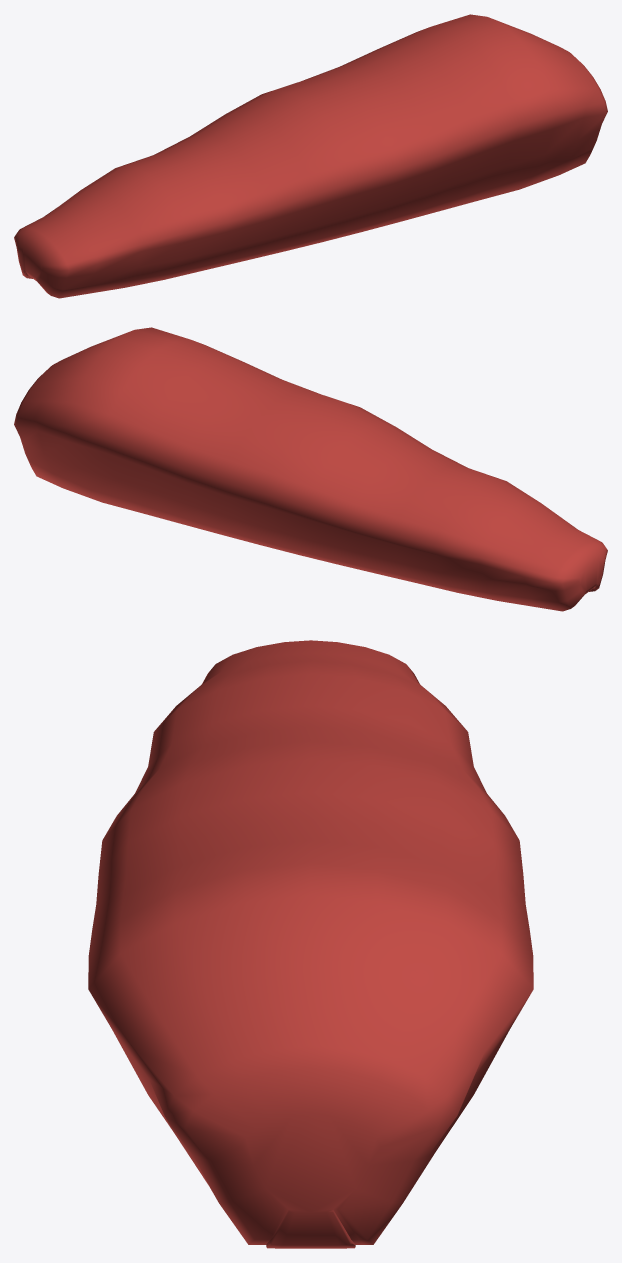
File: adv_lod1.glb
3 renders of one model, top to bottom at view 1: azimuth 30°, elevation 25°; view 2: azimuth 150°, elevation 25°; view 3: azimuth 270°, elevation 25°, orthographic. The views are drawn at different scales.
Visible parts, largest first — view 1: adv_lod1; view 2: adv_lod1; view 3: adv_lod1.
Boxes of the visible parts, box(x1,y1,x2,y2) form: adv_lod1: box(14, 14, 607, 298); adv_lod1: box(14, 327, 607, 611); adv_lod1: box(88, 640, 533, 1248).
Bounding box in the file's own units: 1 × 0.2717 × 0.3489.
